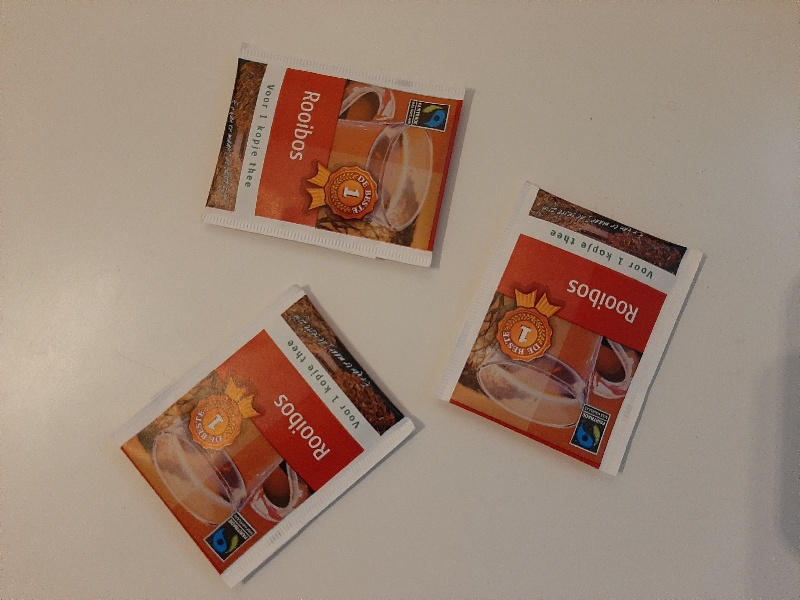rooibos: (106, 280, 419, 593), (433, 176, 714, 480), (193, 45, 483, 272)
